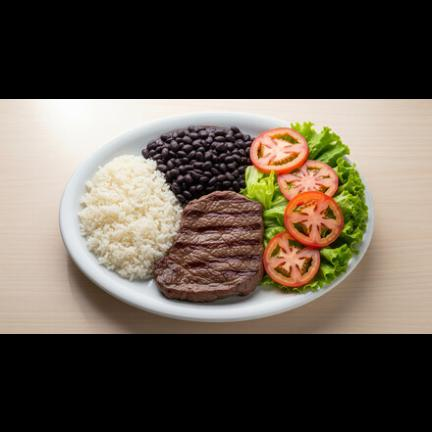beans: (142, 126, 253, 203)
meat: (155, 192, 264, 301)
rice: (78, 155, 182, 280)
salad: (262, 122, 368, 292)
tomato: (250, 128, 343, 286)
